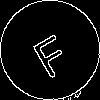F: (25, 25, 74, 80)
